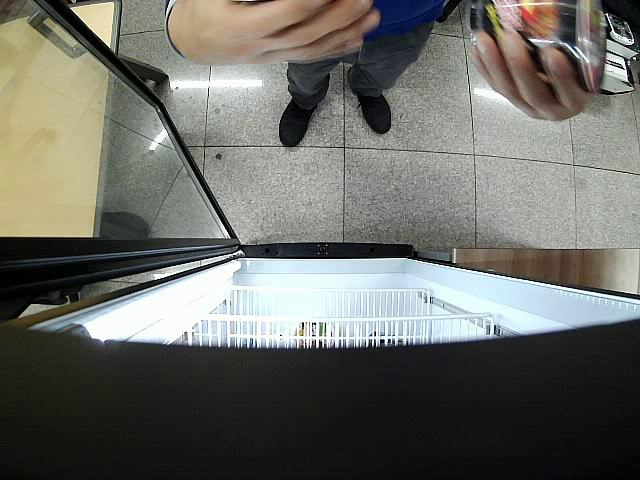00_hand: (195, 0, 380, 65), (469, 32, 590, 121)
08_buldak_S: (468, 0, 605, 93)
